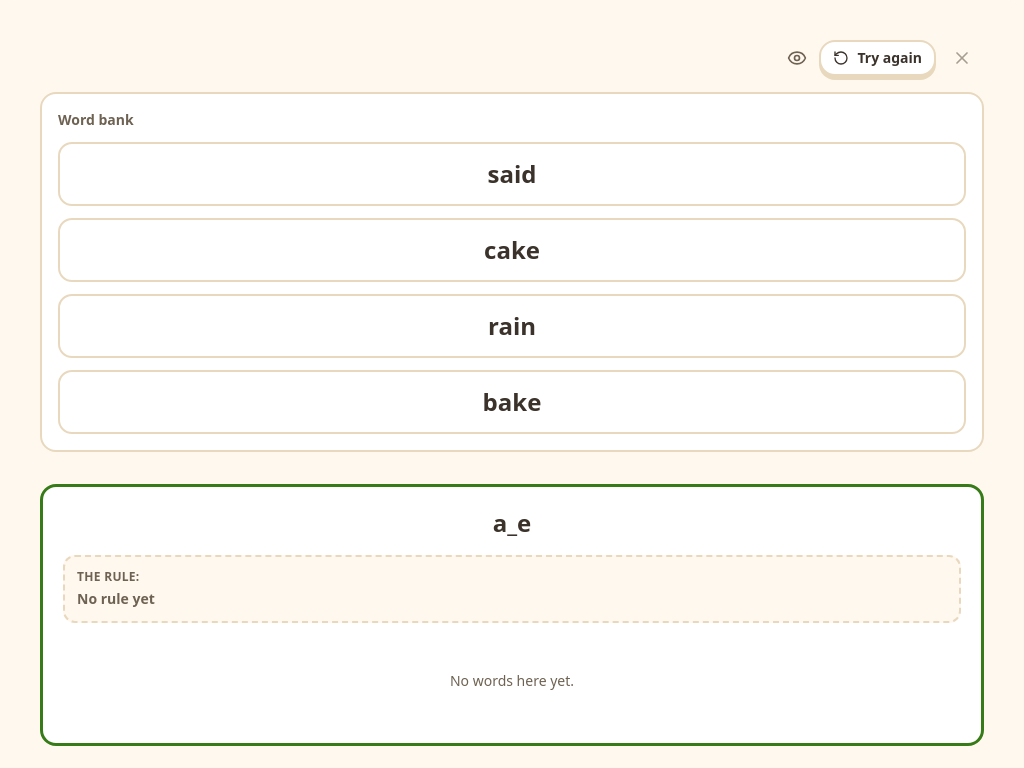
Scenario: SortActivity rule recall › hides the No rule yet placeholder with the eyeball toggle
The width and height of the screenshot is (1024, 768).
Click the button named "Show rules" at (797, 58), box x1=779 y1=40 x2=815 y2=76
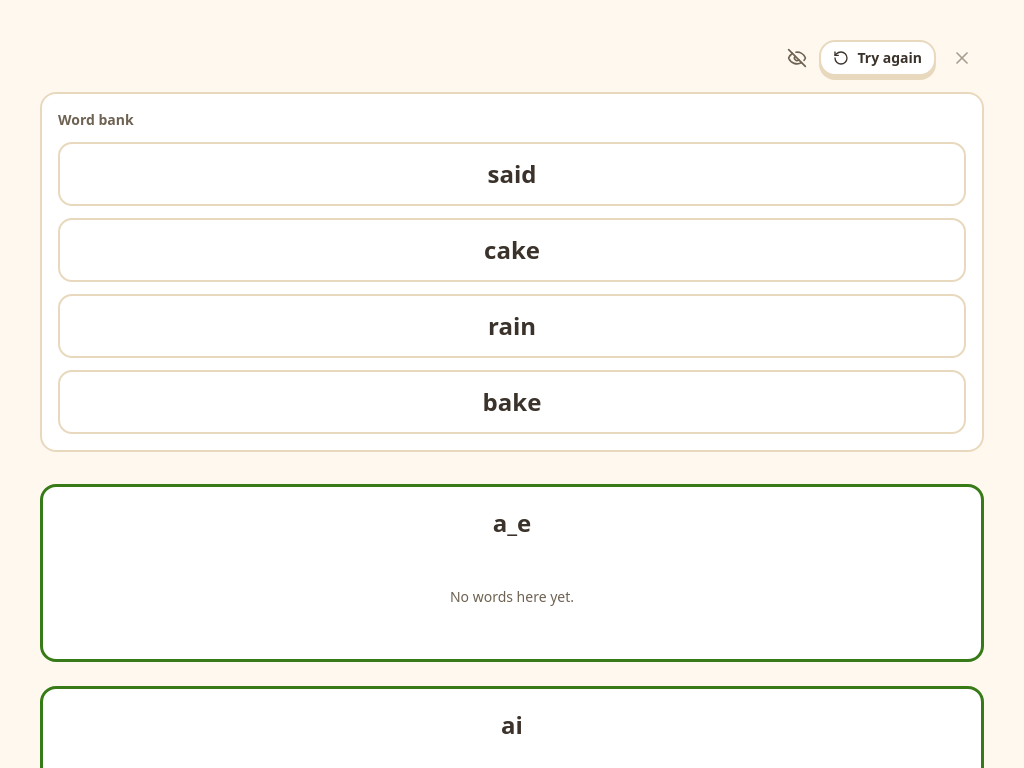
Expected: the text "No rule yet" is gone
Click the button named "Show rules" at (797, 58), box x1=779 y1=40 x2=815 y2=76
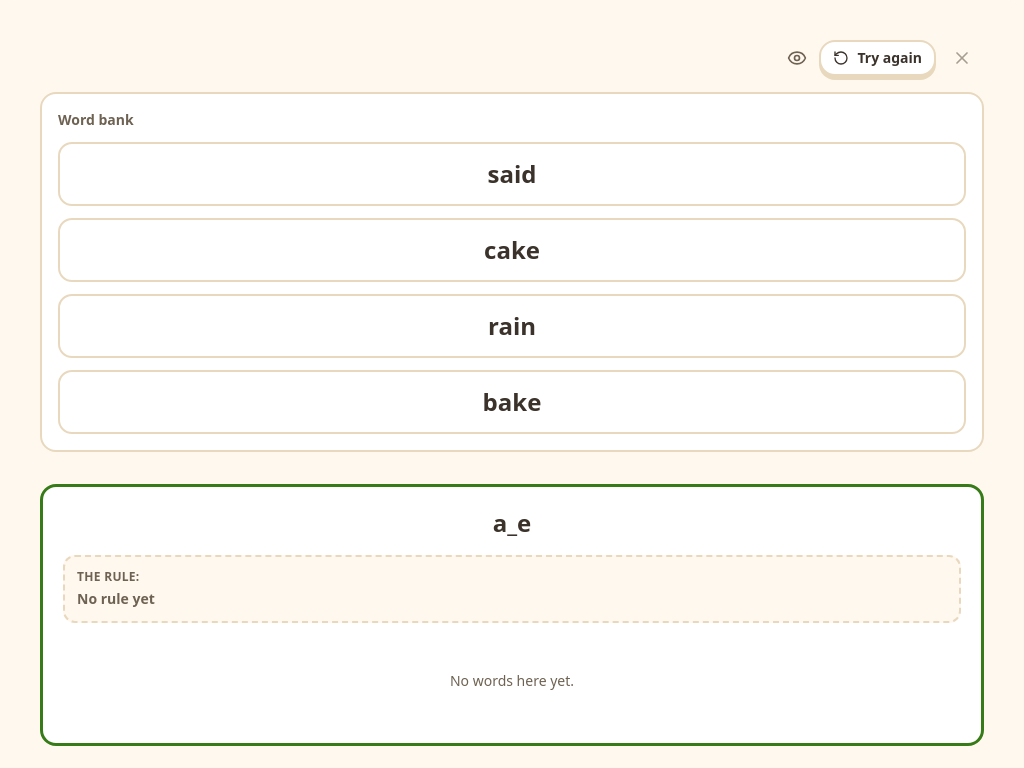
Expected: the text "No rule yet" is shown 3 times
